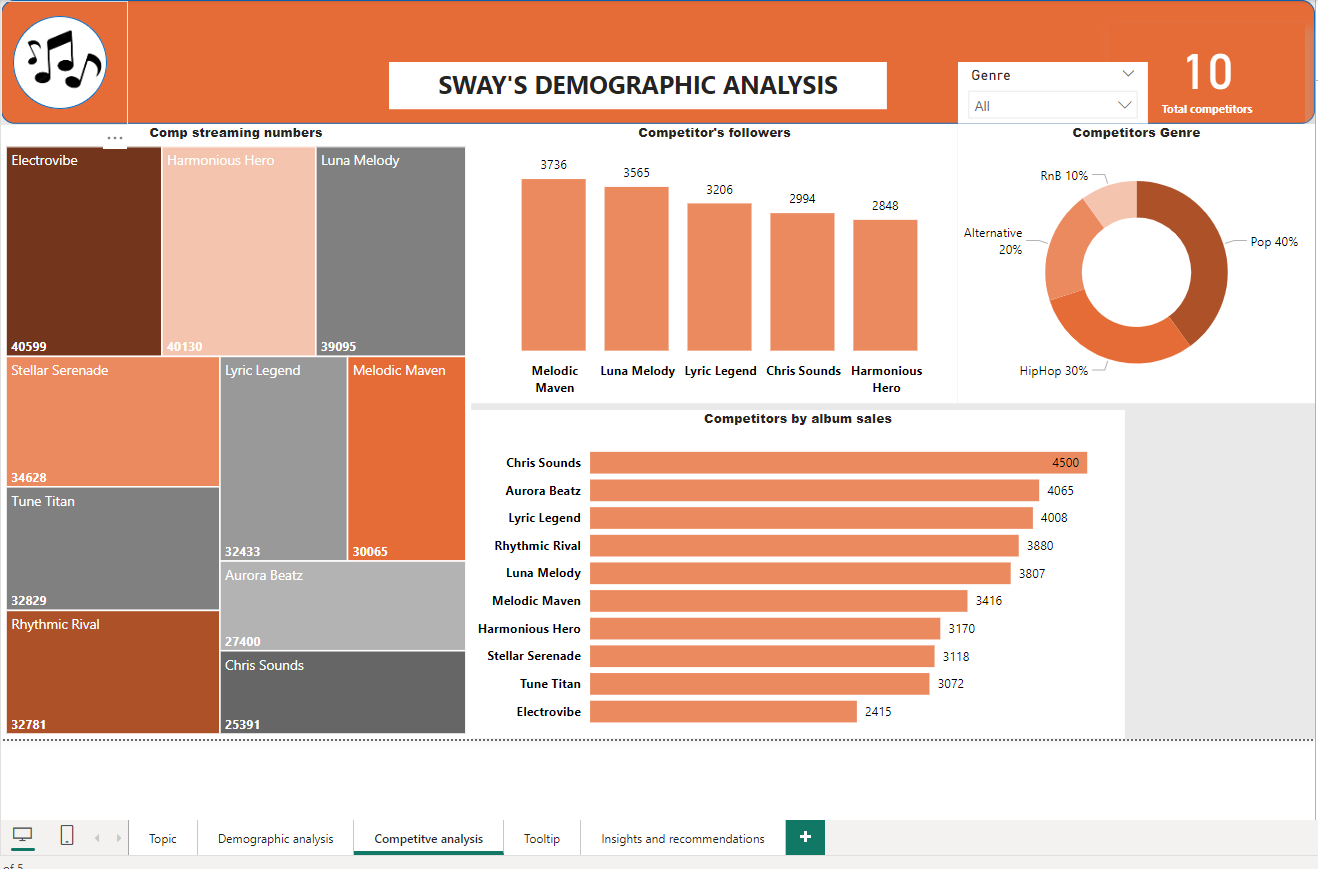

This screenshot's page, from the dashboard's own definition file:
{"tool":"powerbi","page":{"name":"Competitve analysis","canvas":[1280,720],"ordinal":2},"visuals":[{"type":"shape","box":[0,0,1280,120.6],"z":0},{"type":"textbox","box":[378,60.4,485.1,45.8],"z":1000},{"type":"columnChart","title":"Competitor''s followers","fields":{"Category":["competitors_analysis_dataset.Competitor_Name"],"Y":["Measures Table.Comp followers/listeners"]},"box":[457.8,120.8,474.4,271.8],"z":2000},{"type":"card","fields":{"Values":["Measures Table.Total competitors"]},"box":[1079.3,22.4,190.9,98.4],"z":3000},{"type":"treemap","title":"Comp streaming numbers","fields":{"Group":["competitors_analysis_dataset.Competitor_Name"],"Values":["Measures Table.Comp streaming number"]},"box":[0,120.8,457.8,599.1],"z":4000},{"type":"donutChart","title":"Competitors Genre","fields":{"Category":["competitors_analysis_dataset.Genre"],"Y":["Measures Table.Total competitors"]},"box":[932.2,120.8,347.8,271.8],"z":5000},{"type":"barChart","title":"Competitors by album sales","fields":{"Category":["competitors_analysis_dataset.Competitor_Name"],"Y":["Measures Table.Comp album sales"]},"box":[457.8,399.4,637.1,320.5],"z":6000},{"type":"slicer","fields":{"Values":["competitors_analysis_dataset.Genre"]},"box":[932.2,60.4,185.1,60.4],"z":7000},{"type":"shape","box":[11.7,15.6,91.6,90.6],"z":8000},{"type":"image","box":[0,1,123.7,120.8],"z":9500}]}

Visuals, with their boxes on the page's 1280x720 design canvas (x1, y1, x2, y2). These are canvas units, not pixel positions in the 1318x869 screenshot, which may show the page scaled, cropped or inside an application window:
shape: bbox(0, 0, 1280, 121)
textbox: bbox(378, 60, 863, 106)
"Competitor''s followers" columnChart: bbox(458, 121, 932, 393)
card - Measures Table.Total competitors: bbox(1079, 22, 1270, 121)
"Comp streaming numbers" treemap: bbox(0, 121, 458, 720)
"Competitors Genre" donutChart: bbox(932, 121, 1280, 393)
"Competitors by album sales" barChart: bbox(458, 399, 1095, 720)
slicer - competitors_analysis_dataset.Genre: bbox(932, 60, 1117, 121)
shape: bbox(12, 16, 103, 106)
image: bbox(0, 1, 124, 122)
